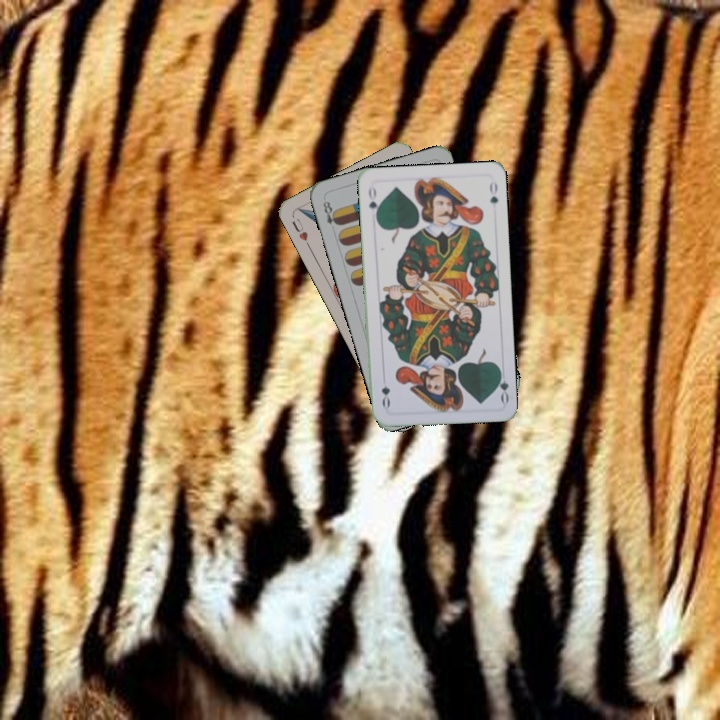E8: (319, 195, 342, 228)
GO: (492, 365, 511, 405), (364, 183, 382, 223)
HU: (288, 214, 313, 250)
